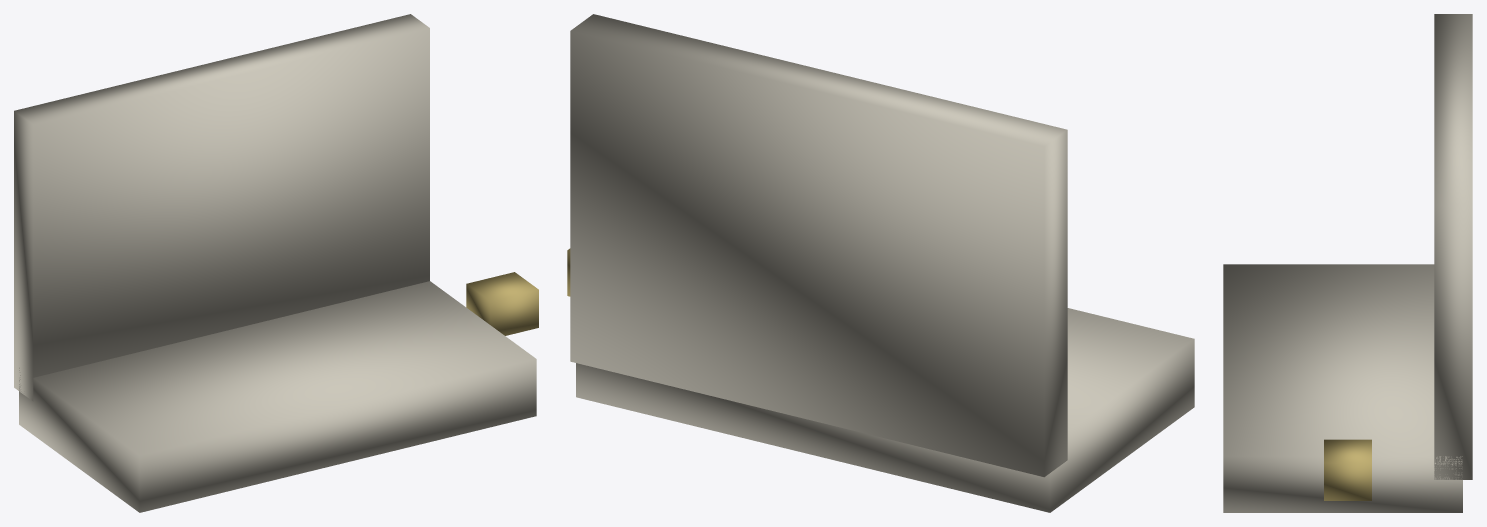
File: baby_change_11.glb
3 views of the same model, side by side, from view 1: azimuth 30°, elevation 25°; view 2: azimuth 150°, elevation 25°; view 3: azimuth 270°, elevation 25° (orthographic). The views are drawn at different scales.
Parts seen in each view (by area): view 1: world; view 2: world; view 3: world.
Part boxes in pixels (x1,y1,x2,y2): world: [14, 14, 538, 512]; world: [567, 14, 1194, 512]; world: [1223, 14, 1472, 512].
Bounding box in the file's own units: 0.9672 × 0.637 × 0.468.
